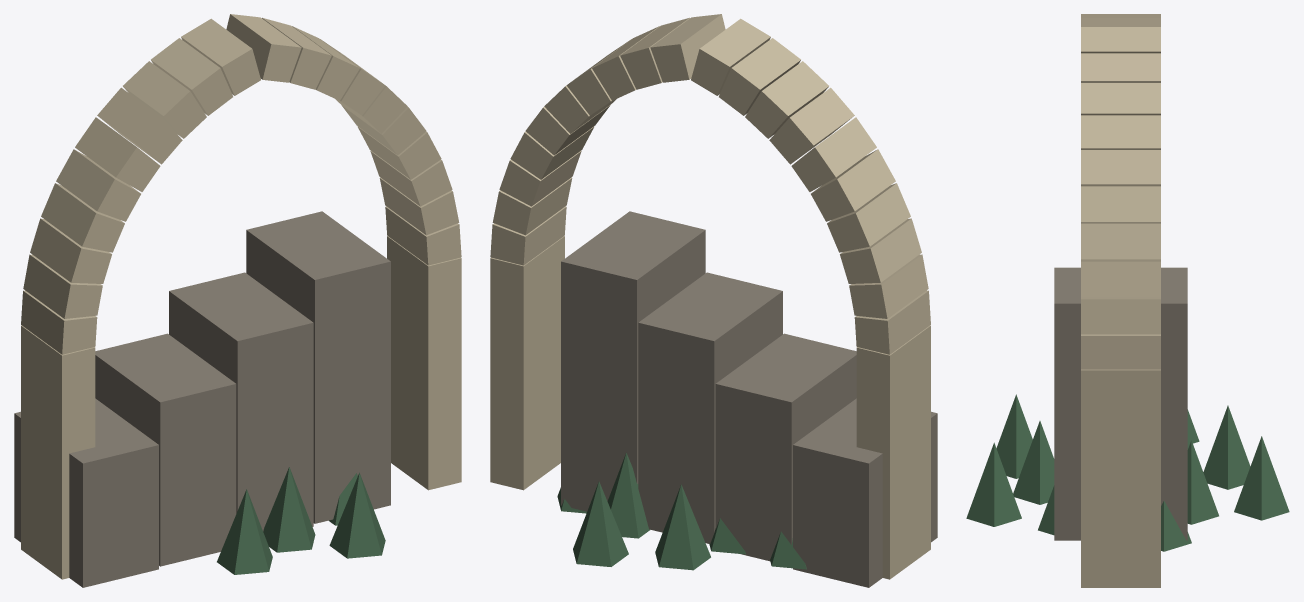
File: HeartIvyRuin_LOD1.fbx
The picture shows the model from 3 angles, left to right: view 1: azimuth 30°, elevation 25°; view 2: azimuth 150°, elevation 25°; view 3: azimuth 270°, elevation 25°; orthographic projection. The views are drawn at different scales.
Parts seen in each view (by area): view 1: HeartIvyRuin_LOD1; view 2: HeartIvyRuin_LOD1; view 3: HeartIvyRuin_LOD1.
Boxes of the visible parts, x1=… form: HeartIvyRuin_LOD1: x1=14, y1=14, x2=461, y2=587; HeartIvyRuin_LOD1: x1=490, y1=14, x2=937, y2=587; HeartIvyRuin_LOD1: x1=966, y1=14, x2=1289, y2=587.
Bounding box in the file's own units: 336 × 389 × 242.
